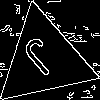J: (19, 34, 68, 86)
